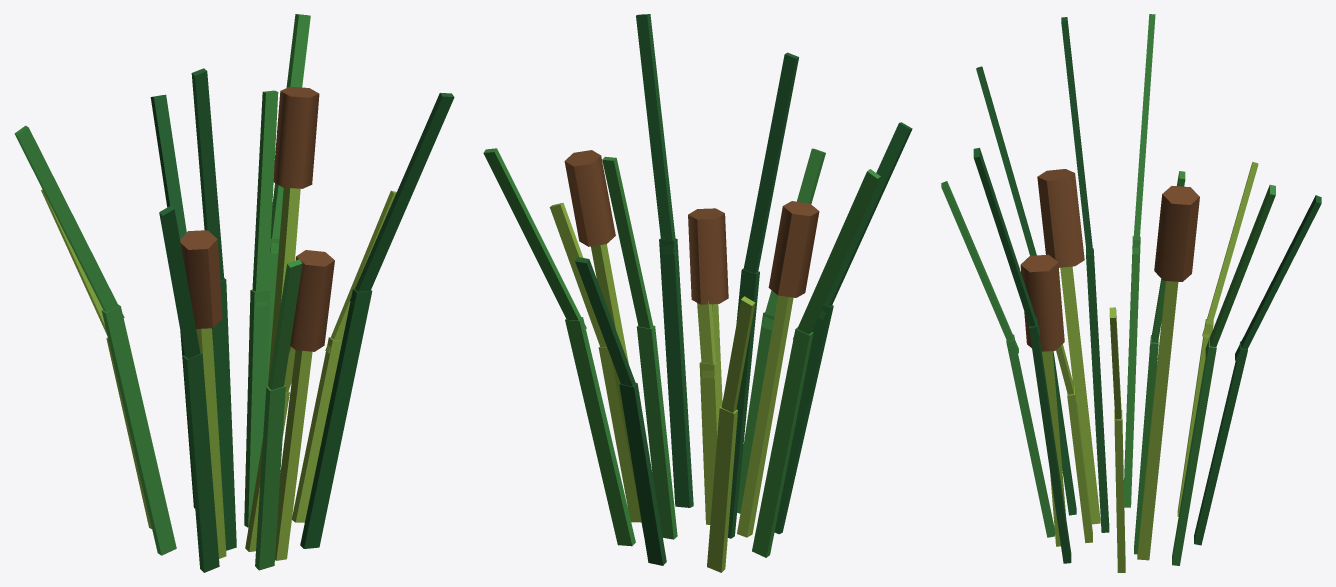
Rendered from Nature__reeds.glb.
3 views of the same model, side by side, from view 1: azimuth 30°, elevation 25°; view 2: azimuth 150°, elevation 25°; view 3: azimuth 270°, elevation 25° (orthographic). The views are drawn at different scales.
Visible parts, largest first — view 1: reeds_mesh; view 2: reeds_mesh; view 3: reeds_mesh.
Part boxes in pixels (x1,y1,x2,y2): reeds_mesh: (14, 14, 454, 572); reeds_mesh: (483, 14, 912, 572); reeds_mesh: (941, 14, 1321, 572).
Size of the model in its own units: 0.757 by 0.995 by 0.7006.
